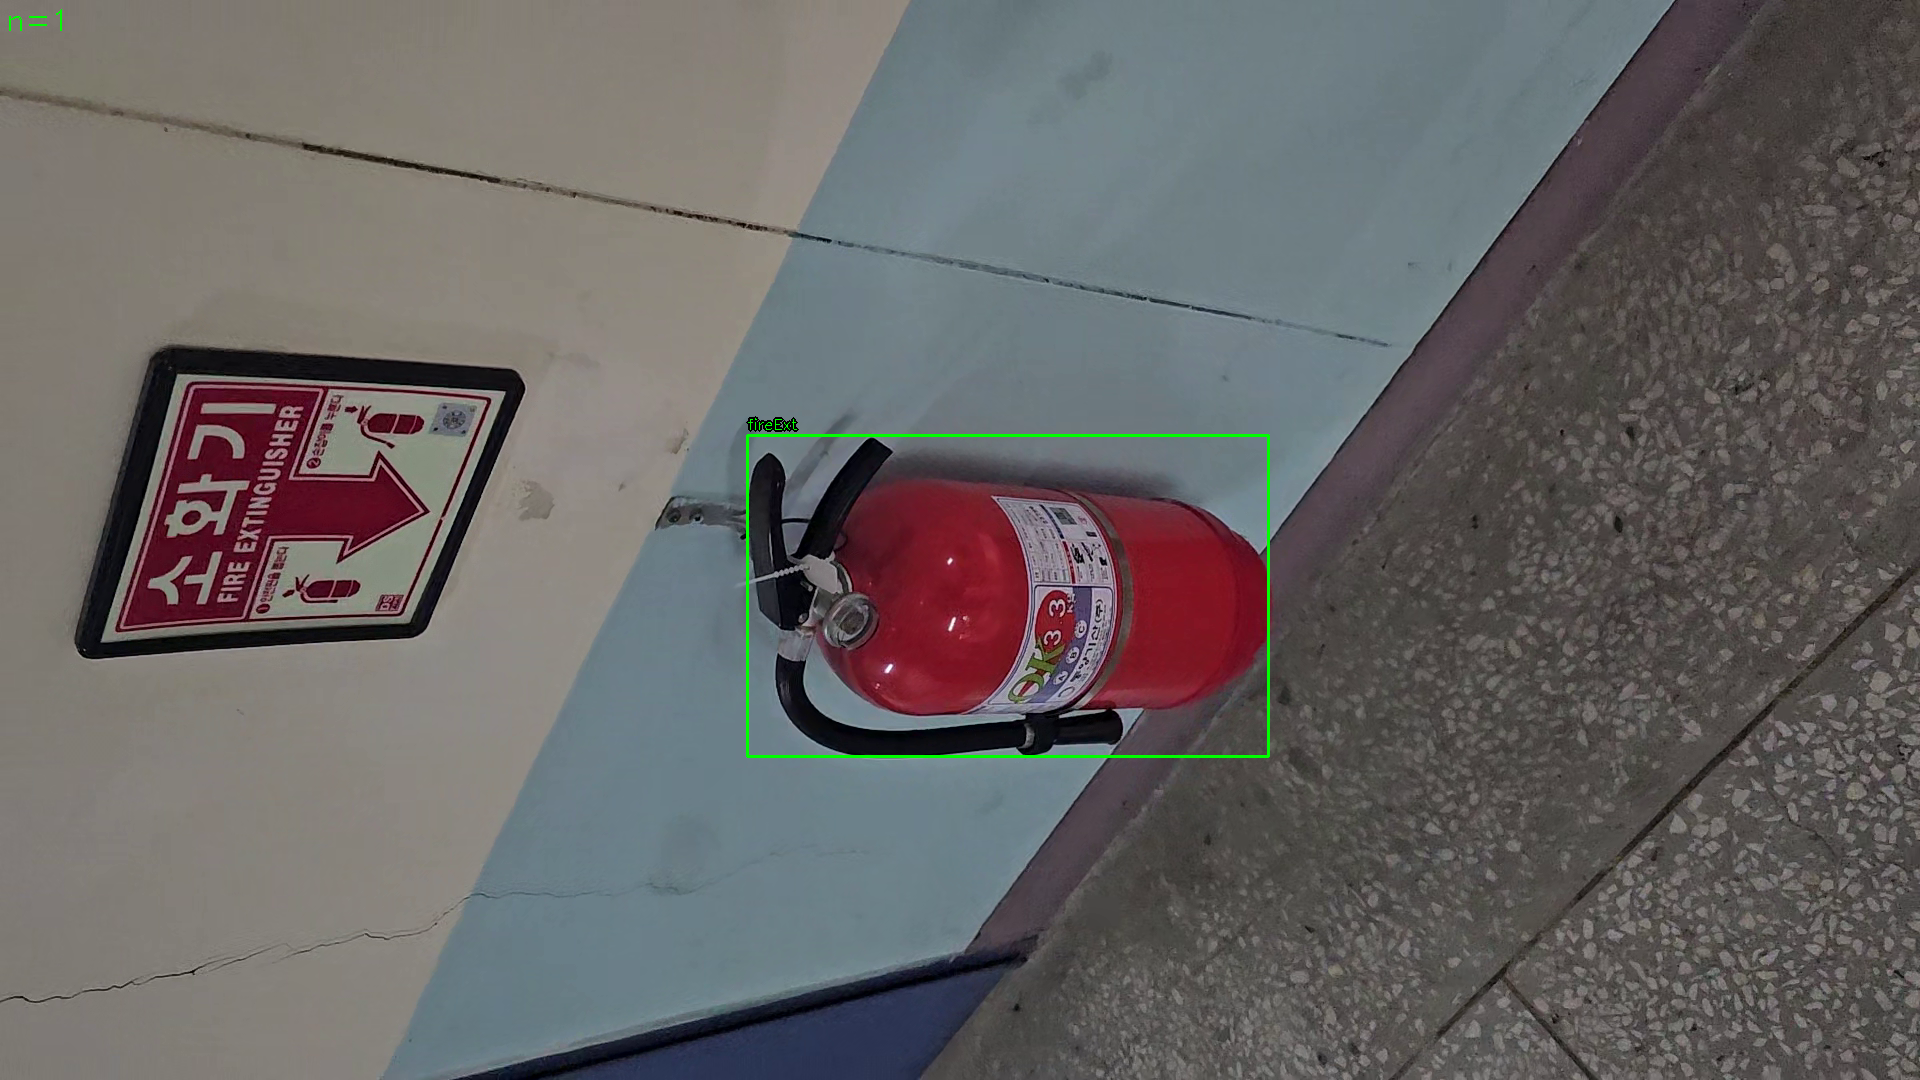lane: (746, 435, 1269, 757)
